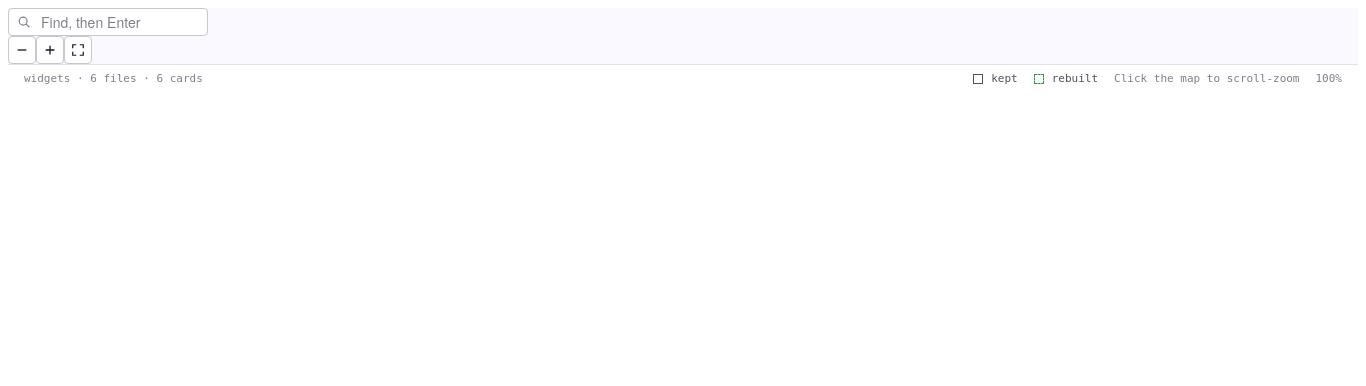
Test: MapScreen › clears the selection from the inspector and says so when nothing matches
Type "core" into the field named "Find a card".
click(119, 22); type("core")  # box [39,11,199,33]
Then press Enter
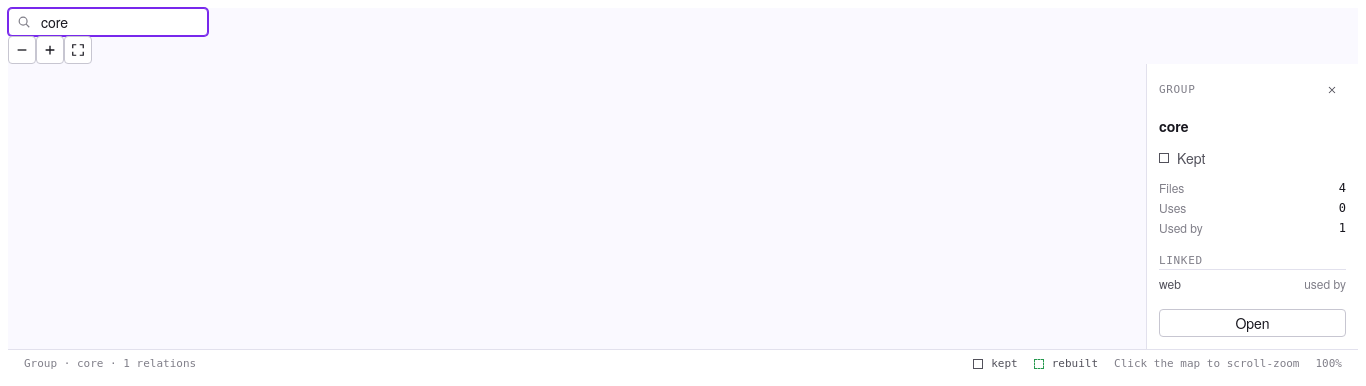
Click the button named "Clear selection".
click(1332, 90)  # box [1318,76,1346,104]
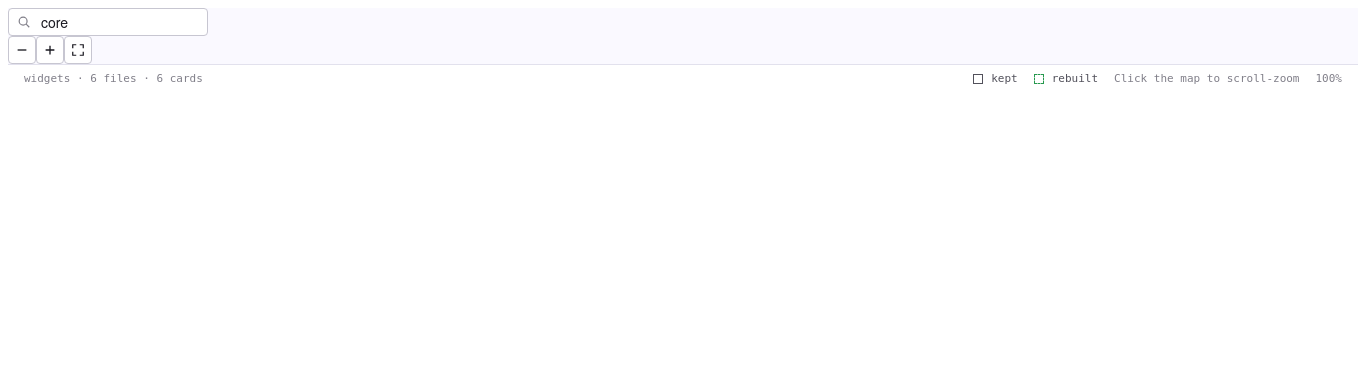
Check: the button "Selection" is gone
Replace the text in the field named "Find a card" with "zzz" at [119, 22], box [39,11,199,33]
Then press Enter
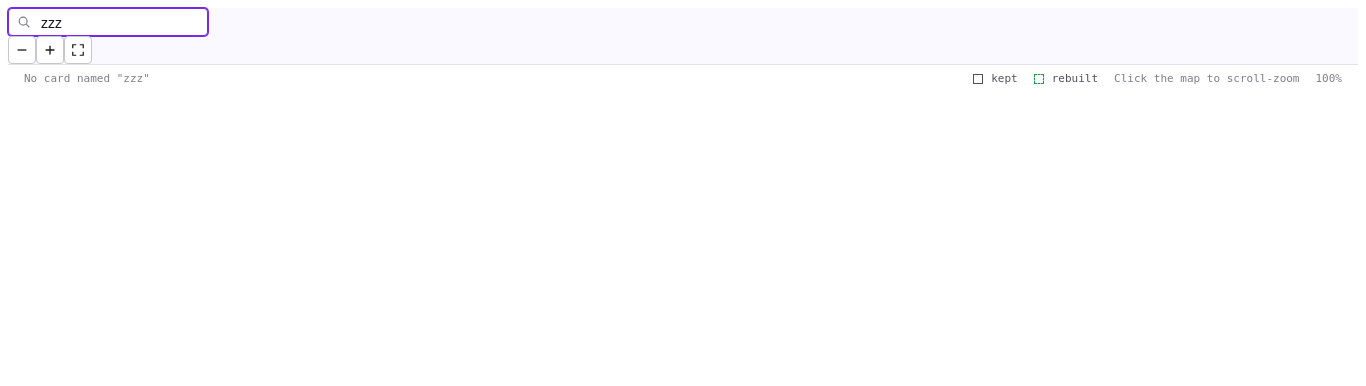
Check: the text "No card named \"zzz\"" is shown, box [24,72,150,84]
